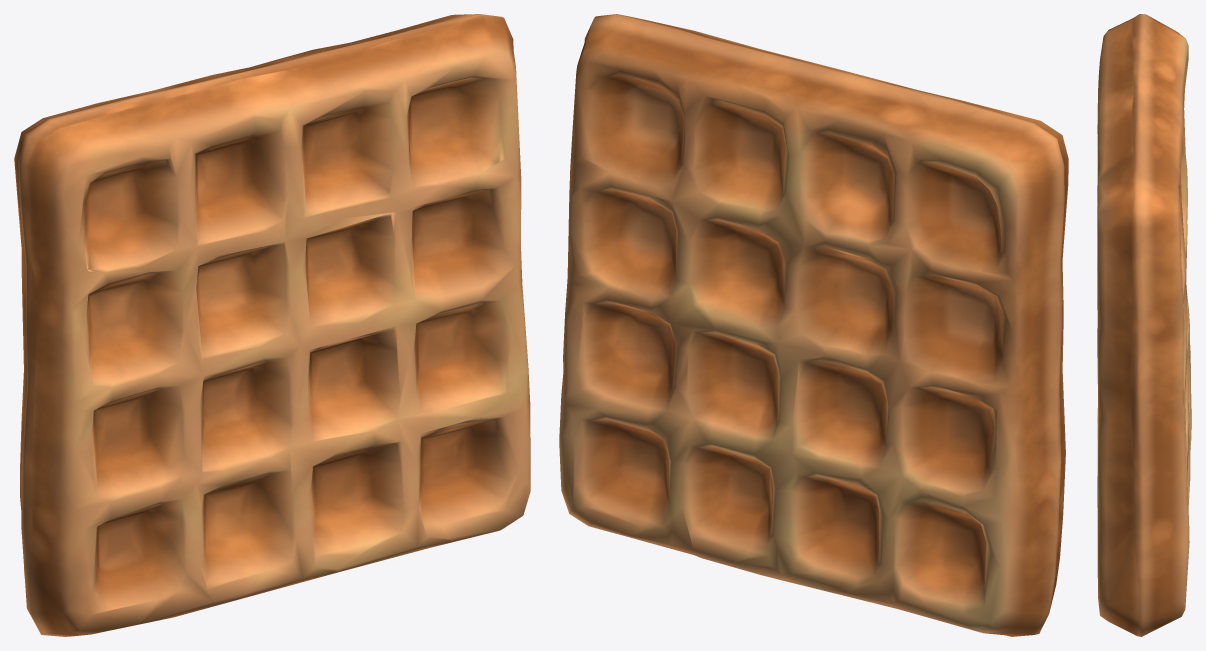
Rendered from melek_waffle.fbx.
3 views of the same model, side by side, from view 1: azimuth 30°, elevation 25°; view 2: azimuth 150°, elevation 25°; view 3: azimuth 270°, elevation 25° (orthographic). The views are drawn at different scales.
Visible parts, largest first — view 1: Object_0; view 2: Object_0; view 3: Object_0.
Boxes of the visible parts, x1,y1,x2,y2 form: Object_0: (14, 14, 530, 636); Object_0: (559, 14, 1068, 636); Object_0: (1097, 14, 1191, 636).
Bounding box in the file's own units: 100 × 100 × 19.
Materials: 1 (1 with a texture image).
